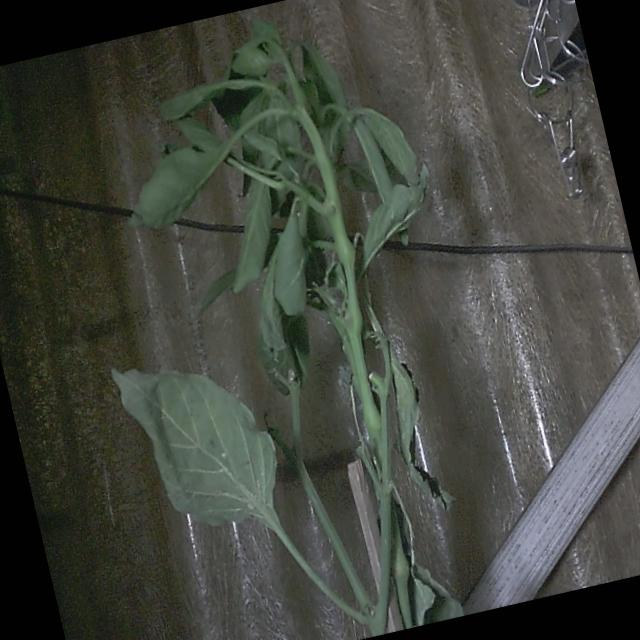Leaf: (111, 336, 291, 550), (375, 338, 456, 518), (112, 136, 236, 235), (342, 162, 446, 265)
